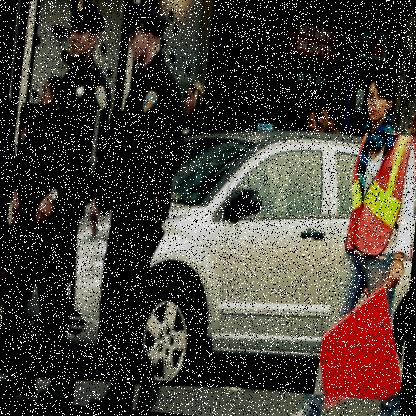Car: (0, 103, 415, 404)
